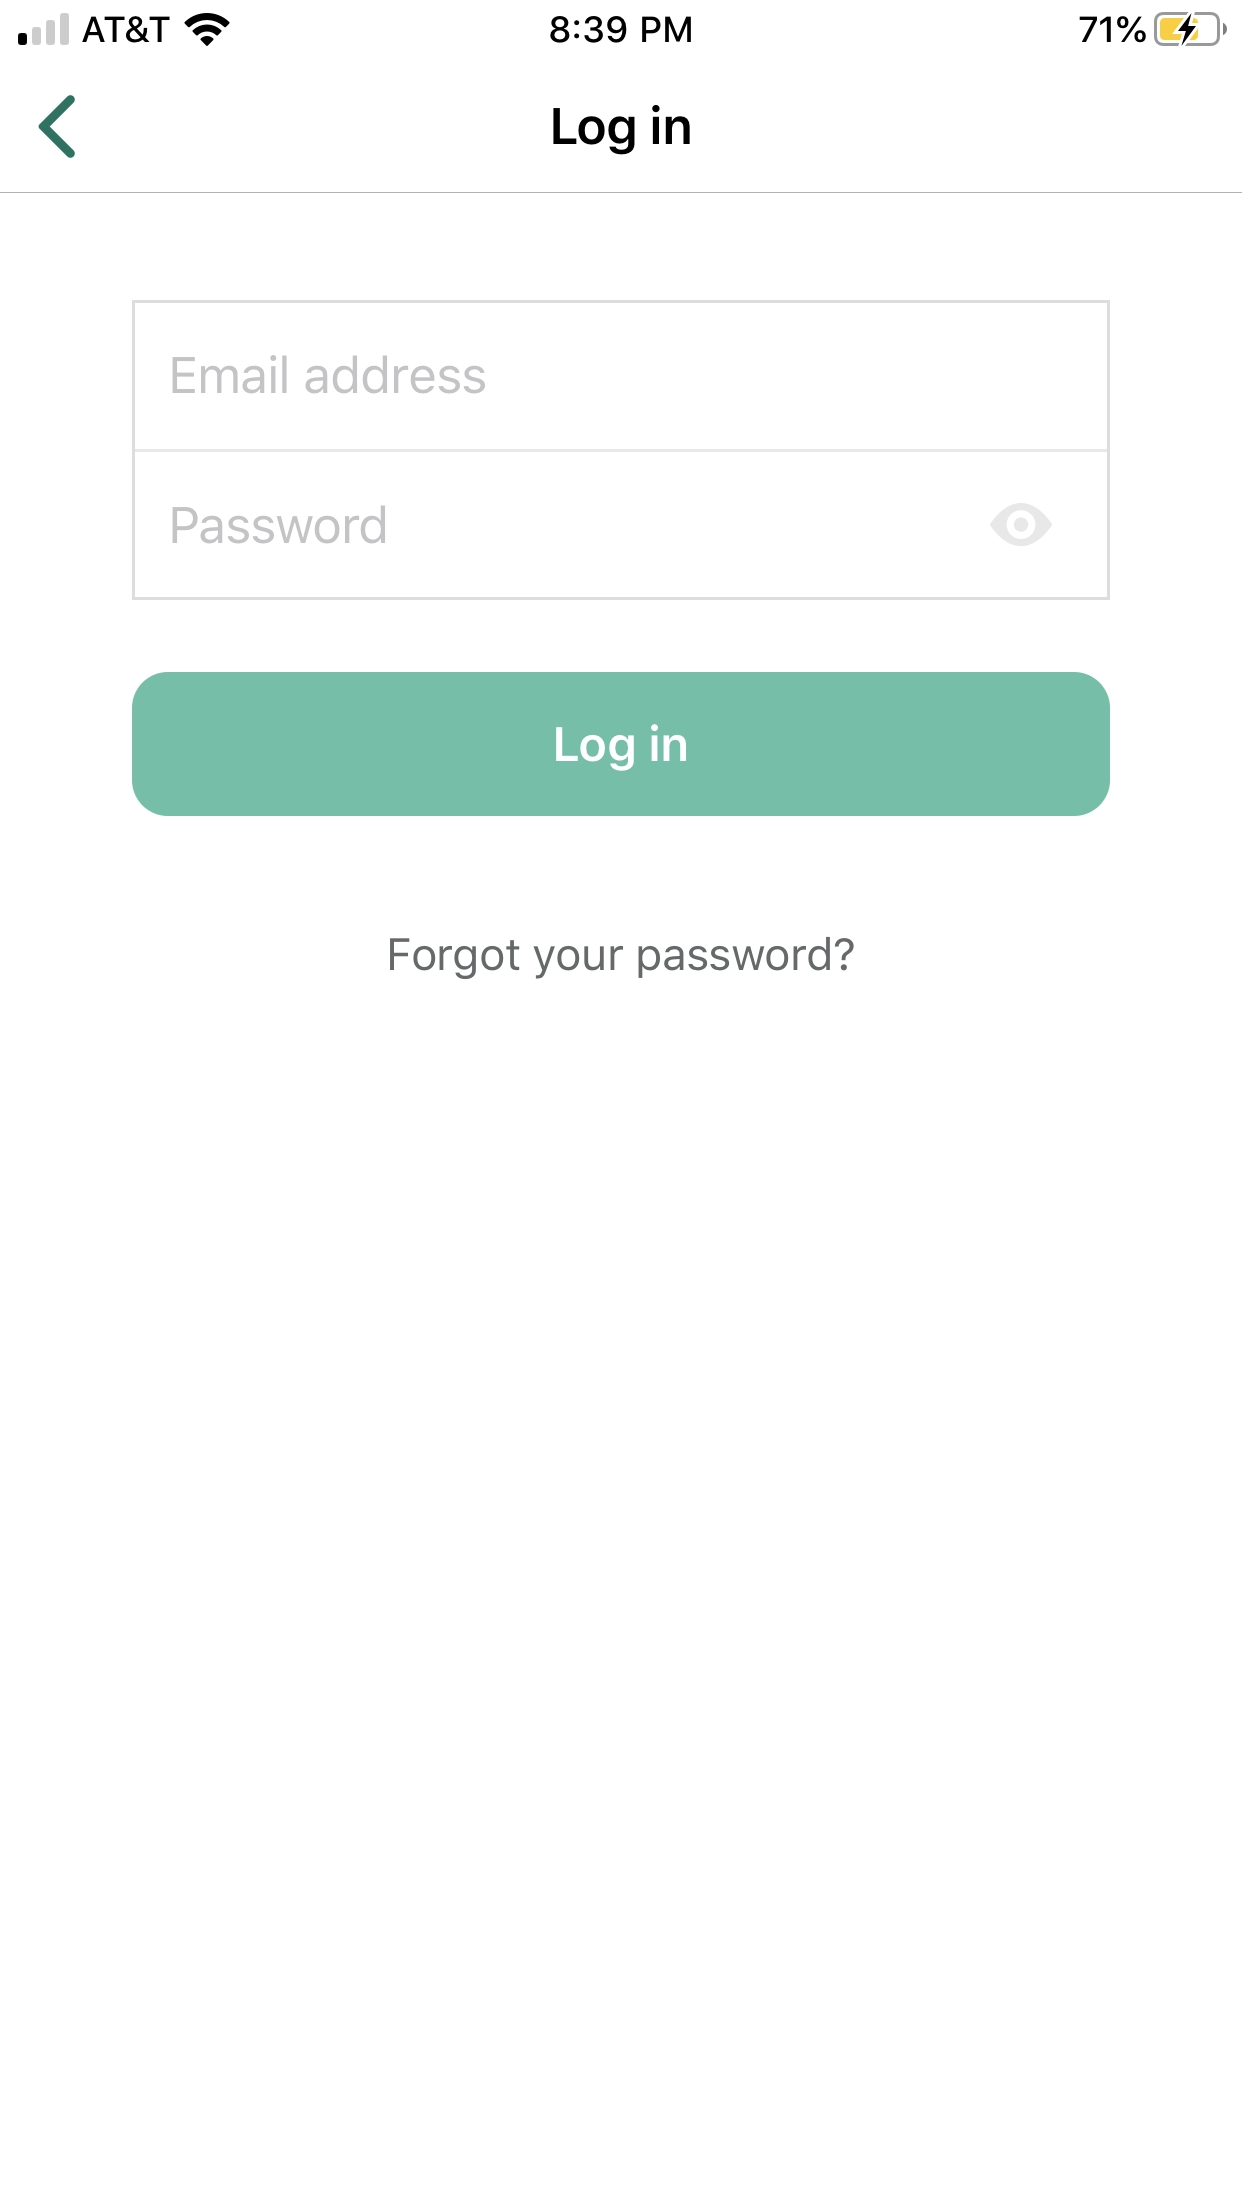EditText: (132, 300, 1110, 453), (132, 450, 1110, 601)
Icon: (989, 503, 1052, 547), (38, 96, 76, 159)
Text: (390, 936, 855, 981), (173, 355, 485, 394), (171, 505, 387, 544), (552, 105, 692, 158)
TextButton: (132, 672, 1112, 817)
UpperTaskBar: (2, 2, 1242, 49)
